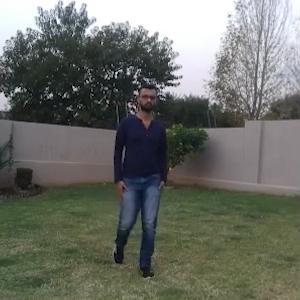follow: (115, 87, 166, 262)
